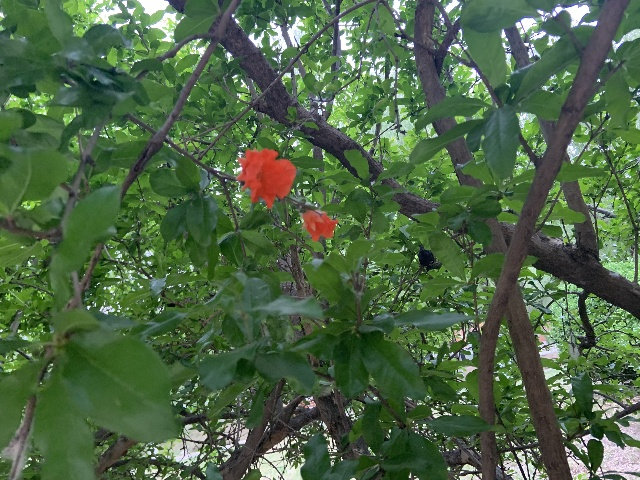flower: (235, 147, 296, 209), (301, 210, 339, 241)
